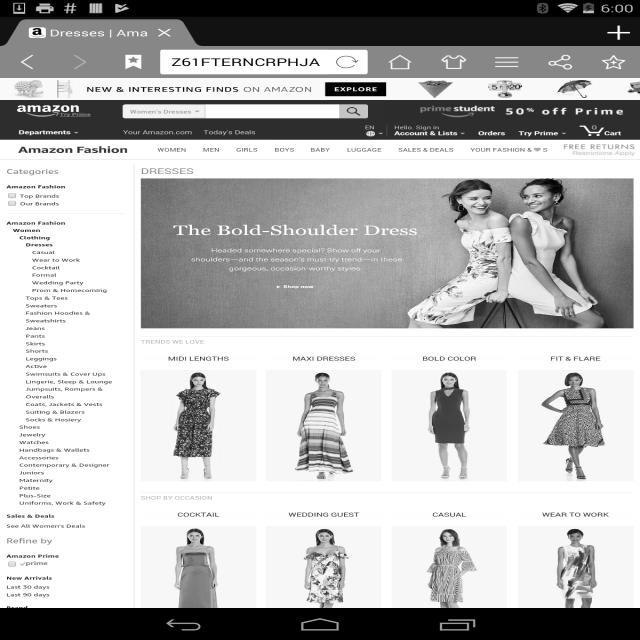Button: (123, 105, 267, 118), (339, 105, 368, 118)
CheckBox: (8, 133, 130, 141), (8, 554, 130, 562), (8, 569, 130, 577), (8, 584, 130, 592), (8, 592, 130, 600), (8, 630, 130, 638), (8, 141, 130, 148), (8, 502, 130, 509), (8, 562, 130, 569), (8, 577, 130, 584), (8, 600, 130, 607), (8, 637, 129, 640)
EditText: (205, 104, 340, 118)
ImageView: (53, 46, 107, 78), (373, 46, 427, 78), (533, 46, 587, 78), (586, 46, 640, 78), (0, 46, 53, 78), (107, 46, 160, 78), (427, 46, 480, 78), (480, 46, 533, 78), (0, 17, 640, 19), (597, 19, 640, 46), (330, 52, 362, 72)
TextView: (0, 19, 203, 46)
